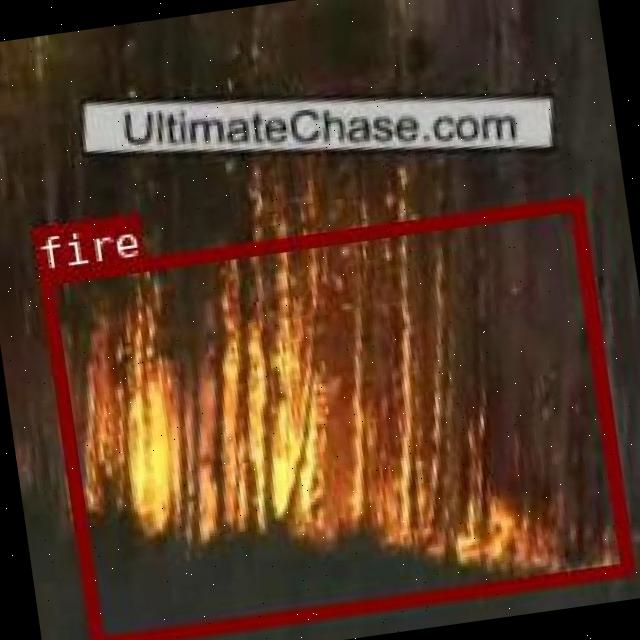fire: (37, 195, 630, 640)
